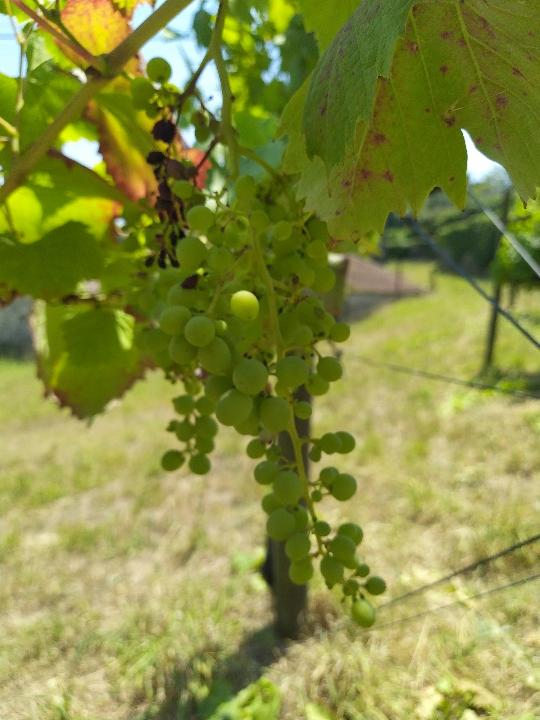grape: (135, 173, 393, 639), (128, 111, 200, 268)
